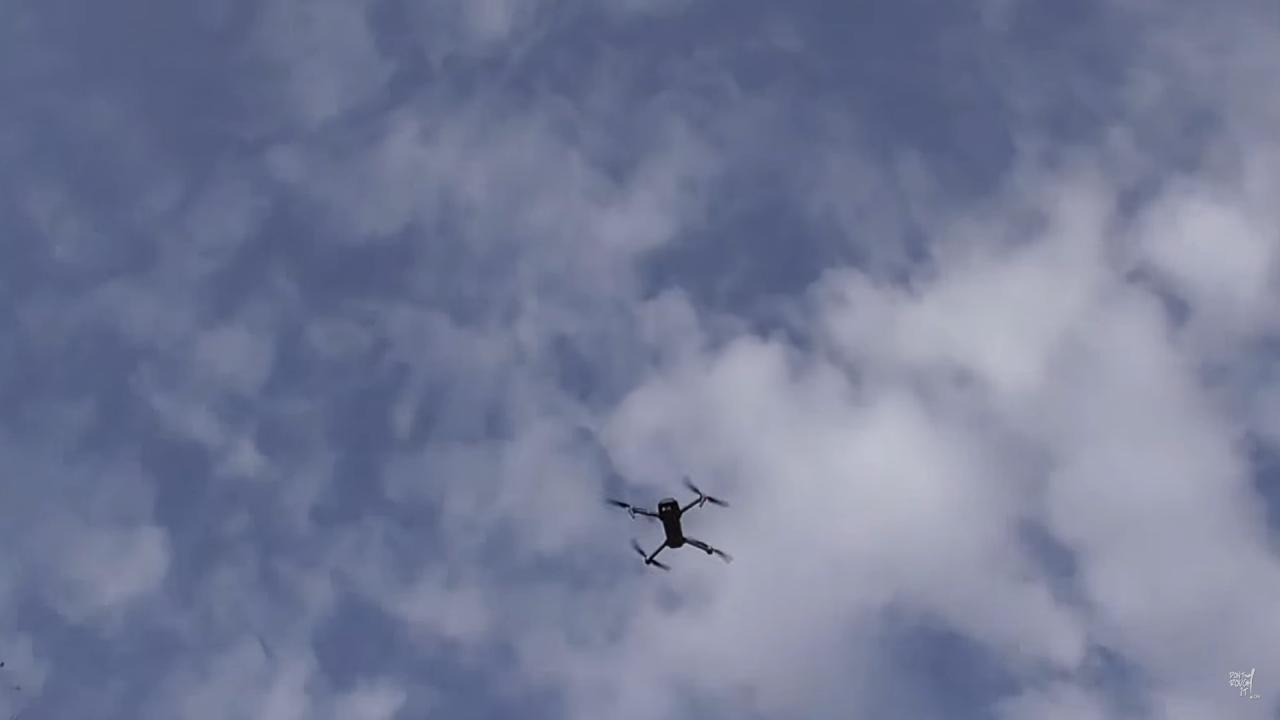Drone: (594, 462, 750, 590)
